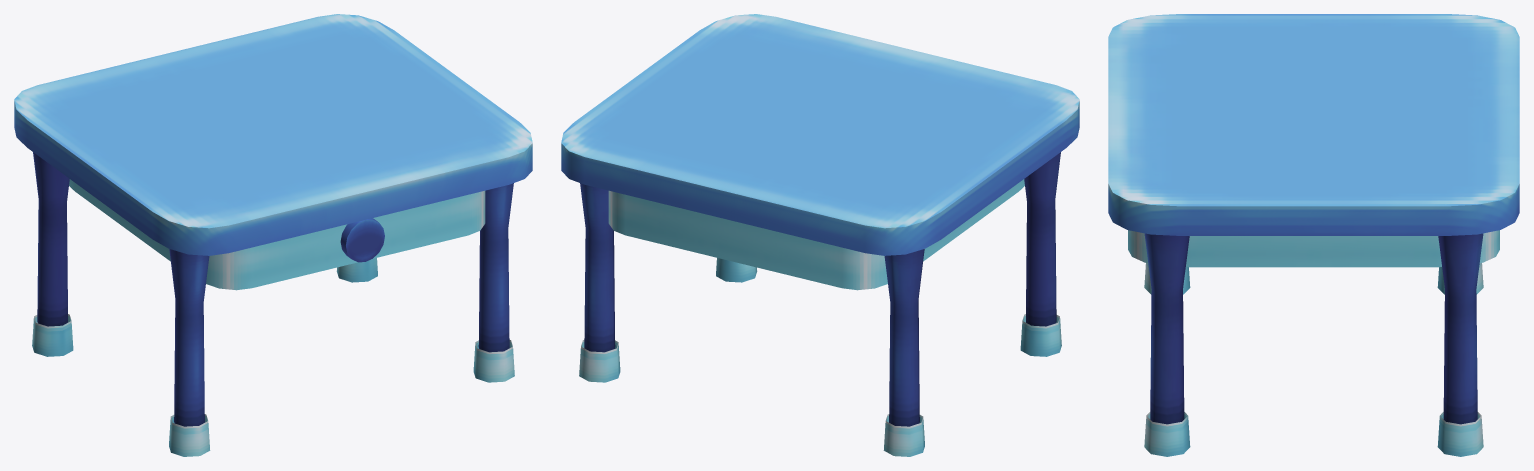
The model's file is BlueDiningTable_HD.fbx.
3 renders of one model, left to right at view 1: azimuth 30°, elevation 25°; view 2: azimuth 150°, elevation 25°; view 3: azimuth 270°, elevation 25°, orthographic. The views are drawn at different scales.
Parts seen in each view (by area): view 1: BlueDiningTable; view 2: BlueDiningTable; view 3: BlueDiningTable.
Part boxes in pixels (x1,y1,x2,y2): BlueDiningTable: (14, 14, 532, 456); BlueDiningTable: (561, 14, 1079, 456); BlueDiningTable: (1108, 14, 1519, 456).
Bounding box in the file's own units: 0.9681 × 0.6042 × 0.8751.
